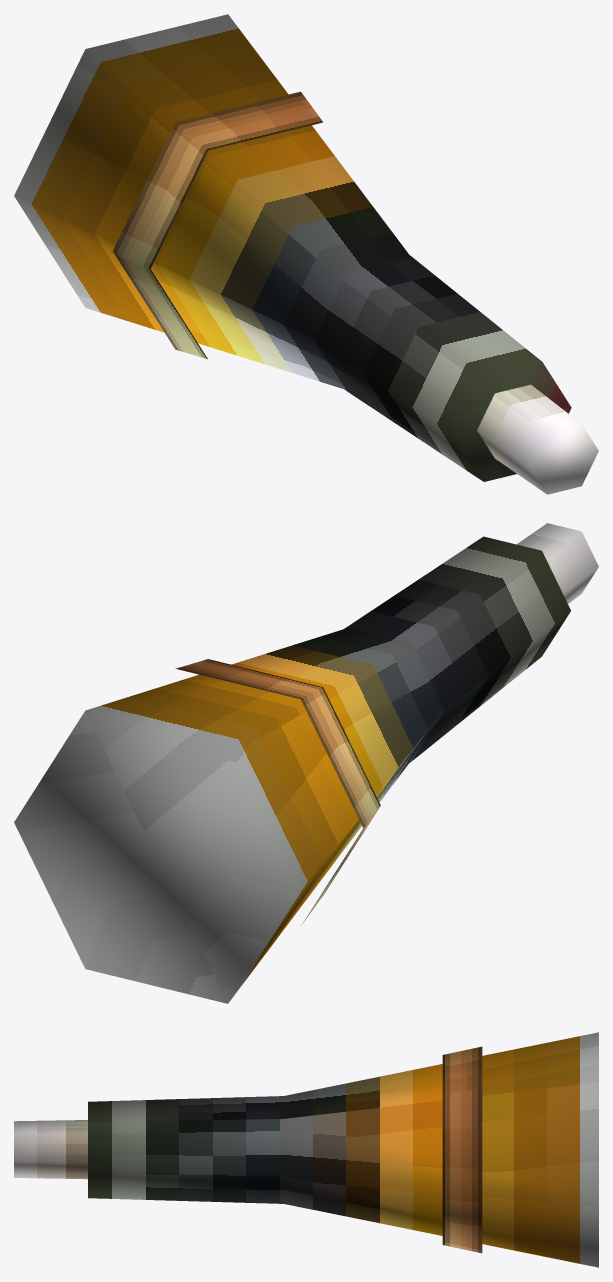
The model's file is sdwater01.glb.
The picture shows the model from 3 angles, top to bottom: view 1: azimuth 30°, elevation 25°; view 2: azimuth 150°, elevation 25°; view 3: azimuth 270°, elevation 25°; orthographic projection. The views are drawn at different scales.
Visible parts, largest first — view 1: model_sdwater01; view 2: model_sdwater01; view 3: model_sdwater01.
Boxes of the visible parts, box(x1,y1,x2,y2) form: model_sdwater01: box(14, 14, 598, 494); model_sdwater01: box(14, 523, 598, 1003); model_sdwater01: box(14, 1032, 598, 1267).
Size of the model in its own units: 0.1377 by 0.1193 by 0.3408.
2 materials, 2 textured.
